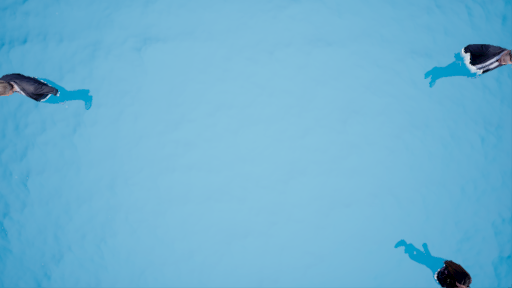person: (424, 33, 512, 91), (390, 232, 475, 288), (1, 69, 99, 115)
